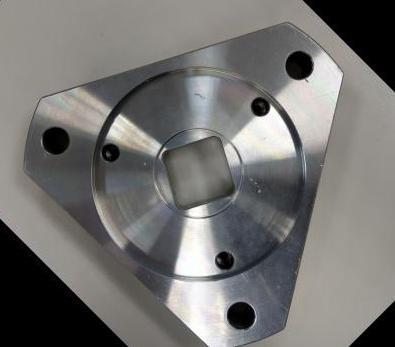hole: (30, 116, 79, 165), (274, 40, 322, 88), (218, 292, 265, 339), (208, 243, 243, 278), (243, 89, 277, 122), (94, 136, 125, 168)
